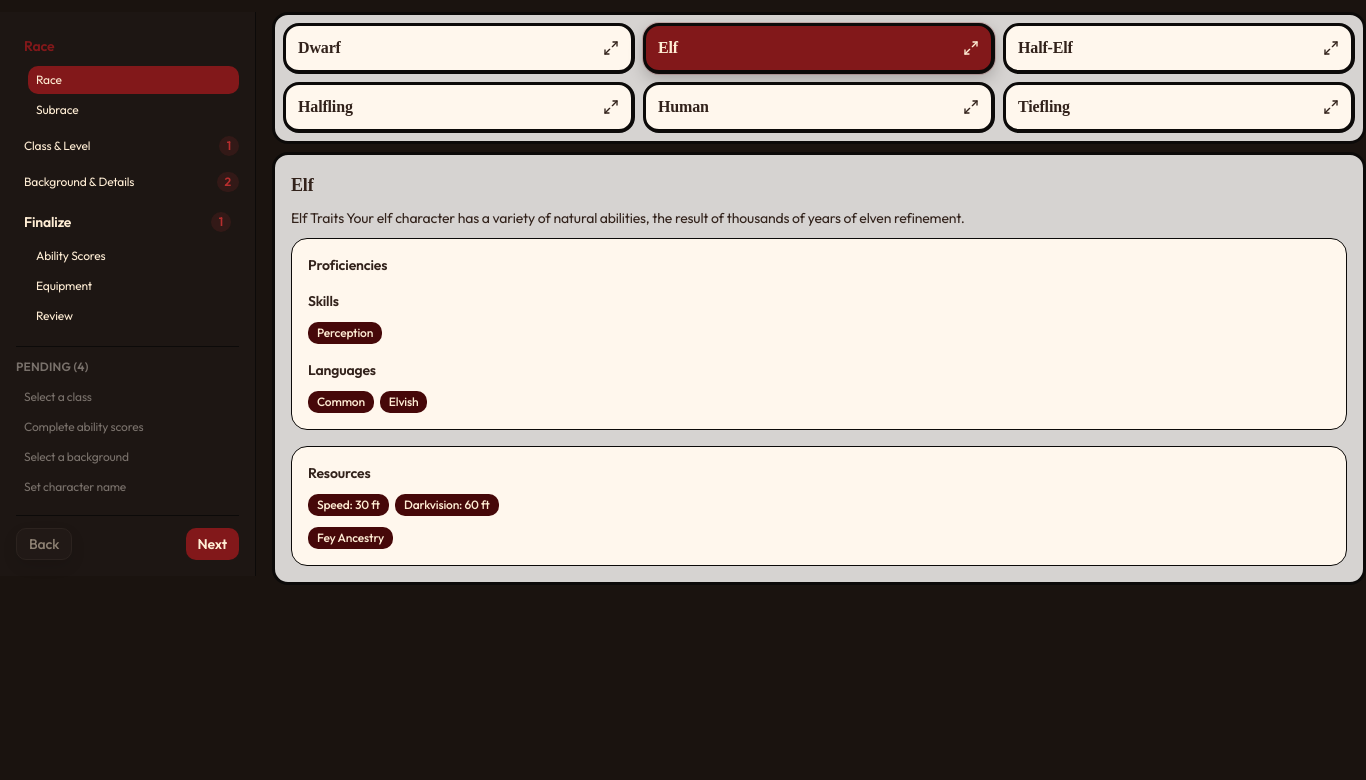
Test: PlayerCharacterForm › can jump to the class step from the sidebar
The image size is (1366, 780).
Click the button "Class & Level": (113, 146) [16, 132, 211, 160]
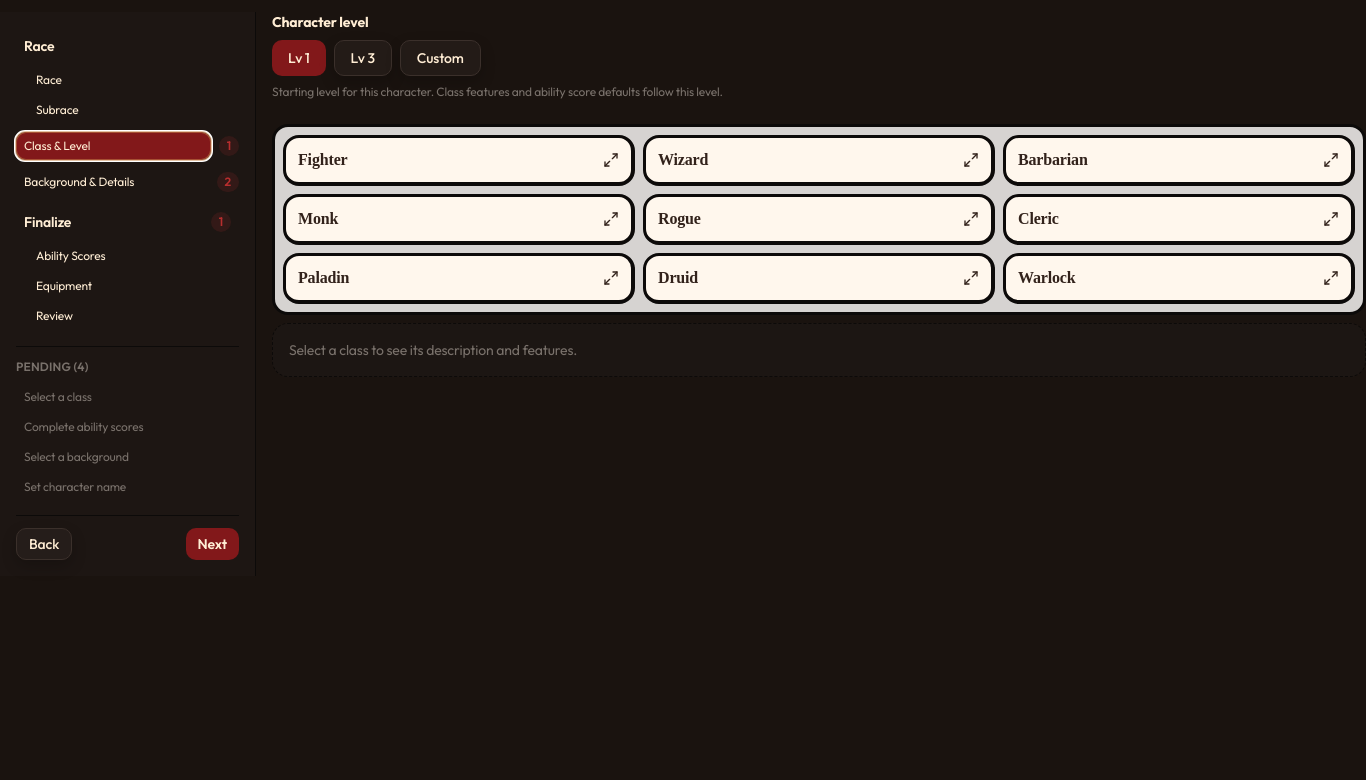
Result: the text "Character level" is shown at [272, 13, 368, 31]
